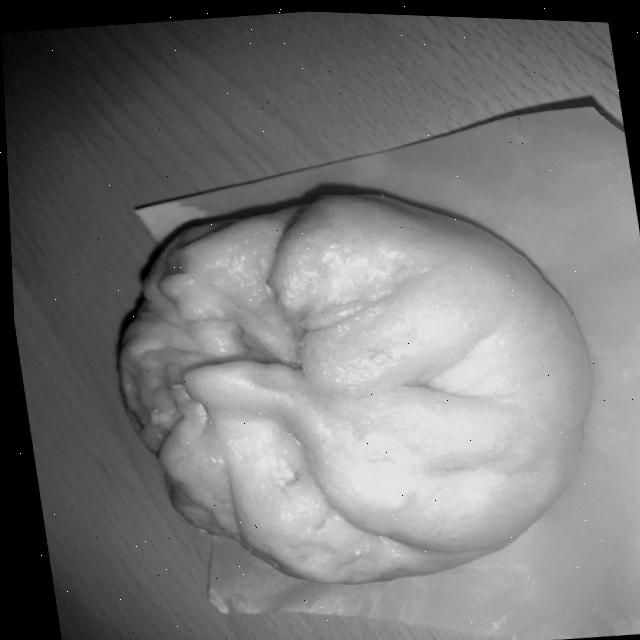带馅早点: (47, 137, 636, 623)
